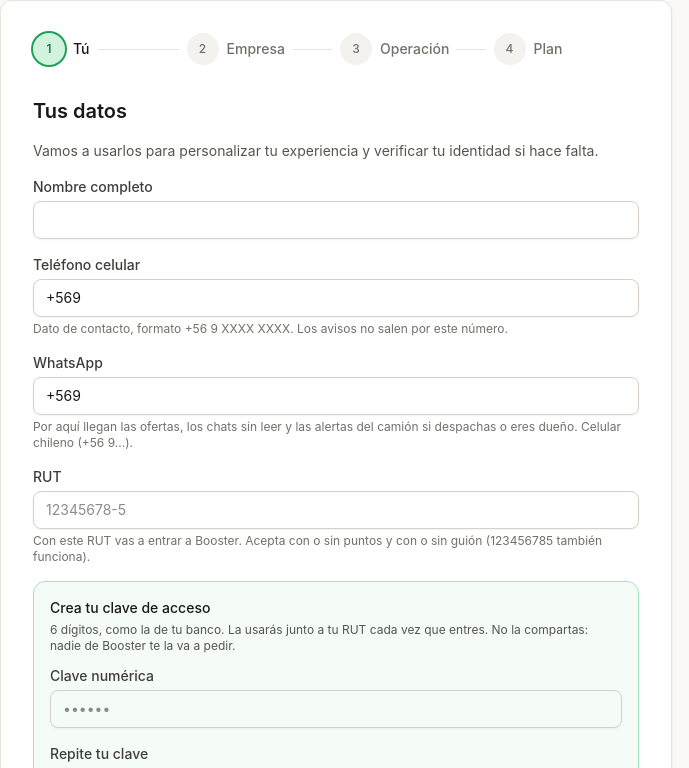
Scenario: OnboardingForm — navegación entre steps › Atrás retrocede al step anterior
In the field labelled "Nombre completo": (336, 220) x1=33 y1=201 x2=639 y2=239, type "Felipe Vicencio"
Replace the text in the field labelled "Teléfono celular" with "+56912345678": (336, 298) x1=33 y1=279 x2=639 y2=317
Replace the text in the field labelled "WhatsApp" with "+56912345678": (336, 396) x1=33 y1=377 x2=639 y2=415
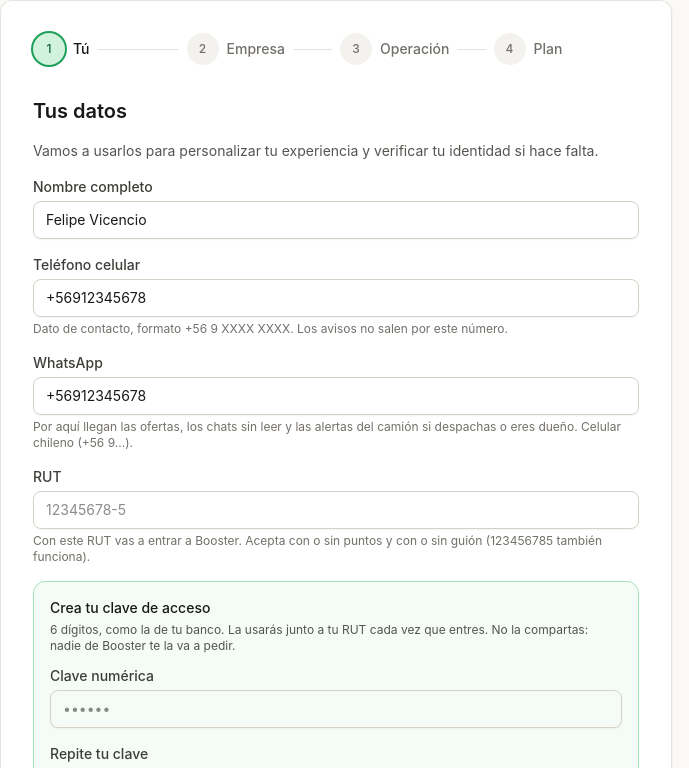
In the field labelled "RUT": (336, 510) x1=33 y1=491 x2=639 y2=529, type "11.111.111-1"
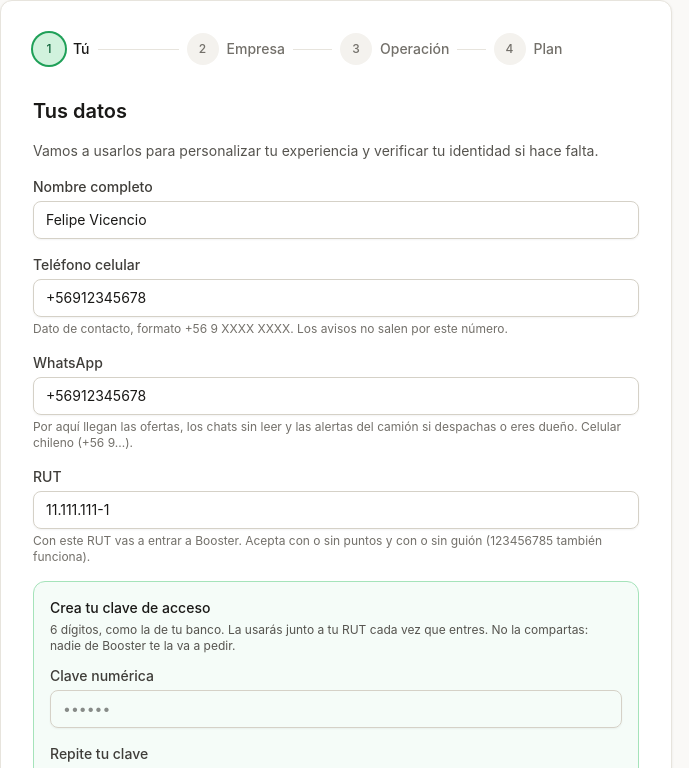
In the password field labelled "Clave numérica": (336, 709) x1=50 y1=690 x2=622 y2=728, type "482915"
(page scrolled)
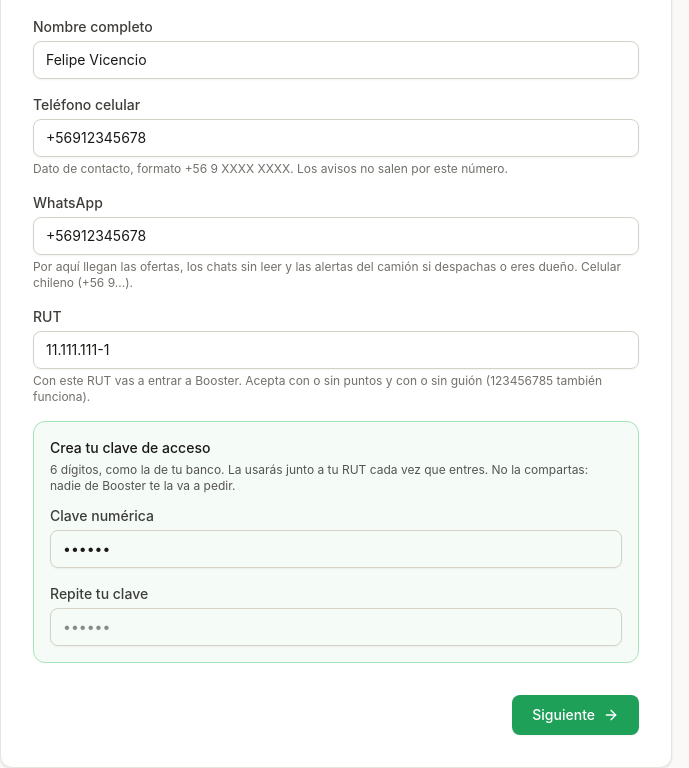
In the password field labelled "Repite tu clave": (336, 627) x1=50 y1=608 x2=622 y2=646, type "482915"
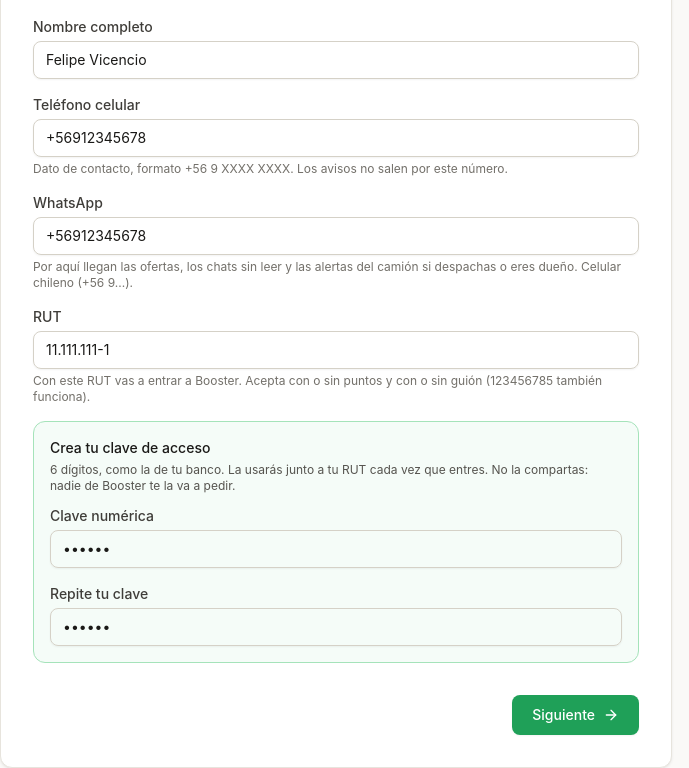
Click the button "Siguiente": (576, 715) x1=512 y1=695 x2=639 y2=735
(page scrolled)
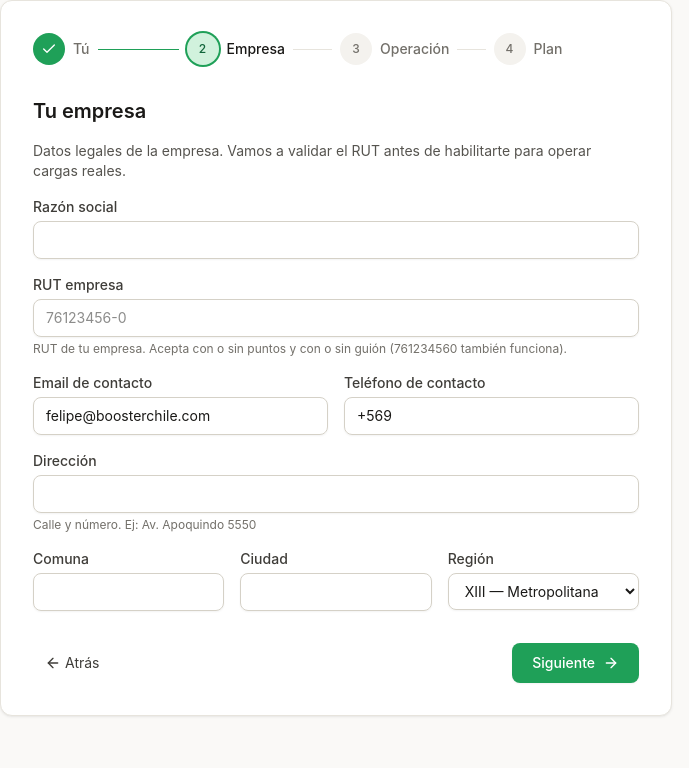
Expected: the heading "Tu empresa" is shown, x1=33 y1=99 x2=146 y2=123
Click the button "Atrás": (72, 663) x1=33 y1=645 x2=112 y2=681
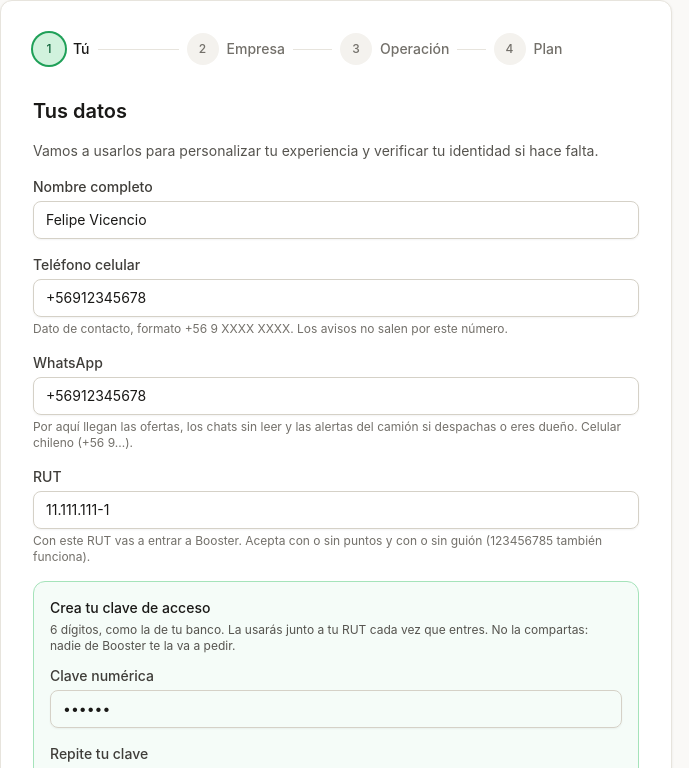
Expected: the heading "Tus datos" is shown, x1=33 y1=99 x2=127 y2=123
